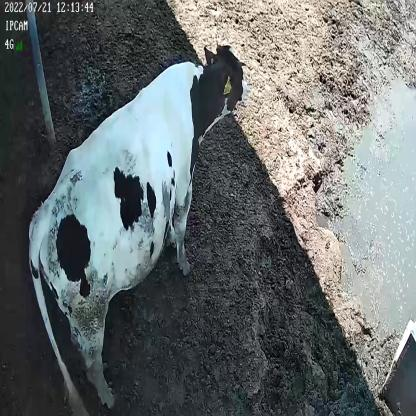cow: (26, 38, 249, 416)
